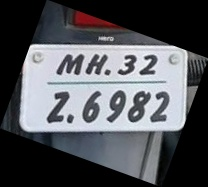character: (45, 90, 70, 123), (127, 89, 151, 123), (105, 88, 125, 122), (56, 53, 84, 77), (81, 89, 100, 122), (149, 90, 169, 121), (84, 53, 108, 75), (116, 53, 137, 75), (138, 54, 157, 75)
